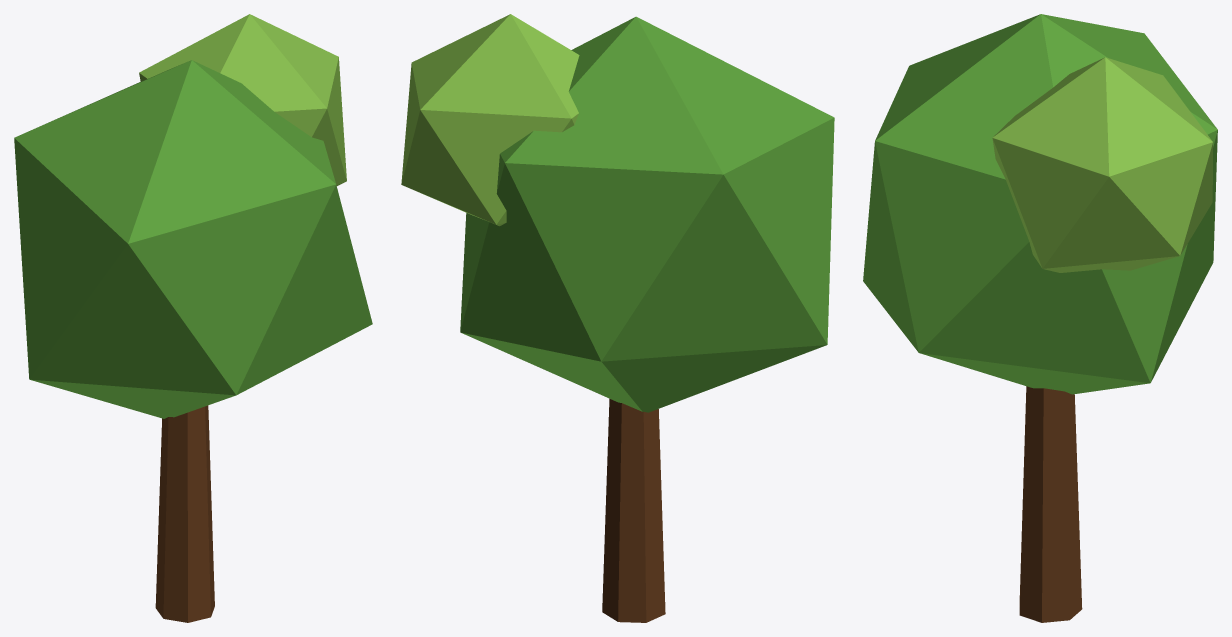
File: nature2_round_tree.glb
3 views of the same model, side by side, from view 1: azimuth 30°, elevation 25°; view 2: azimuth 150°, elevation 25°; view 3: azimuth 270°, elevation 25° (orthographic). The views are drawn at different scales.
Visible parts, largest first — view 1: round_tree; view 2: round_tree; view 3: round_tree.
Boxes of the visible parts, x1,y1,x2,y2 form: round_tree: [14, 14, 372, 622]; round_tree: [401, 14, 834, 622]; round_tree: [863, 14, 1217, 622].
Size of the model in its own units: 2.38 by 3.61 by 1.94.
